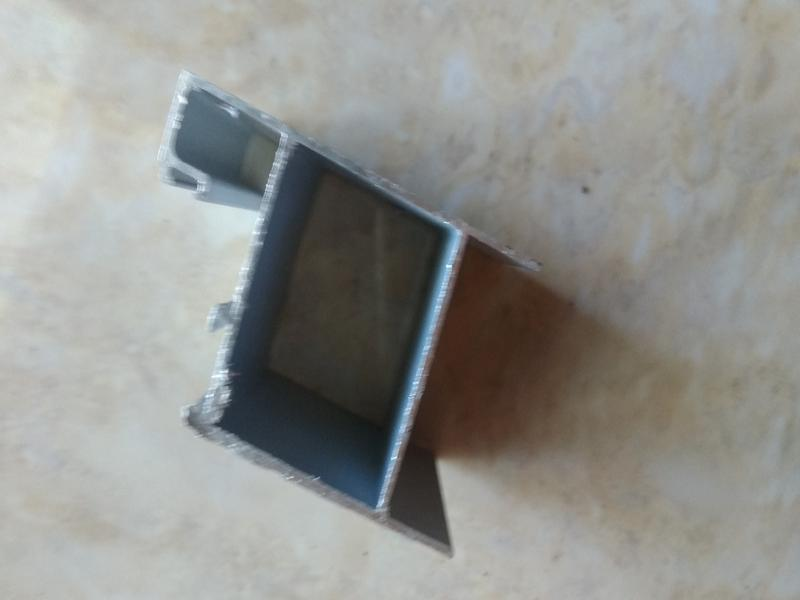Aluminium_2: (114, 40, 569, 576)
